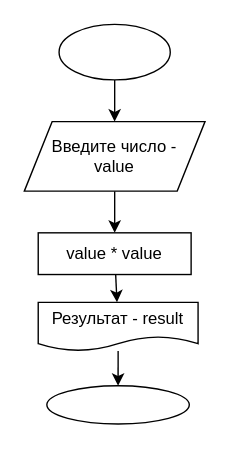
This 229x449 diagram has some shape labels left out. The shapes that lost their labels are listed below. From the top down, each one's centre as x and y in pixels, then its label:
the point at 114,51: START
the point at 117,404: END
